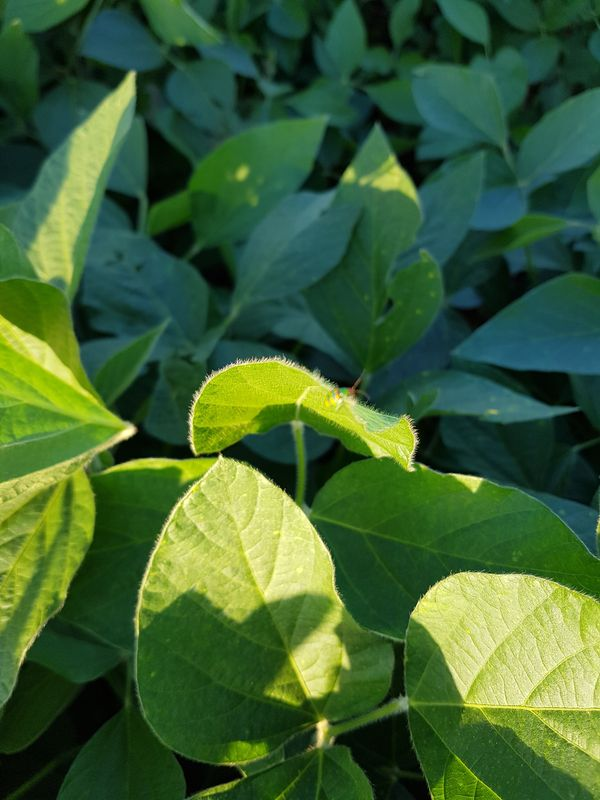Diabrotica_speciosa: (315, 371, 376, 426)
